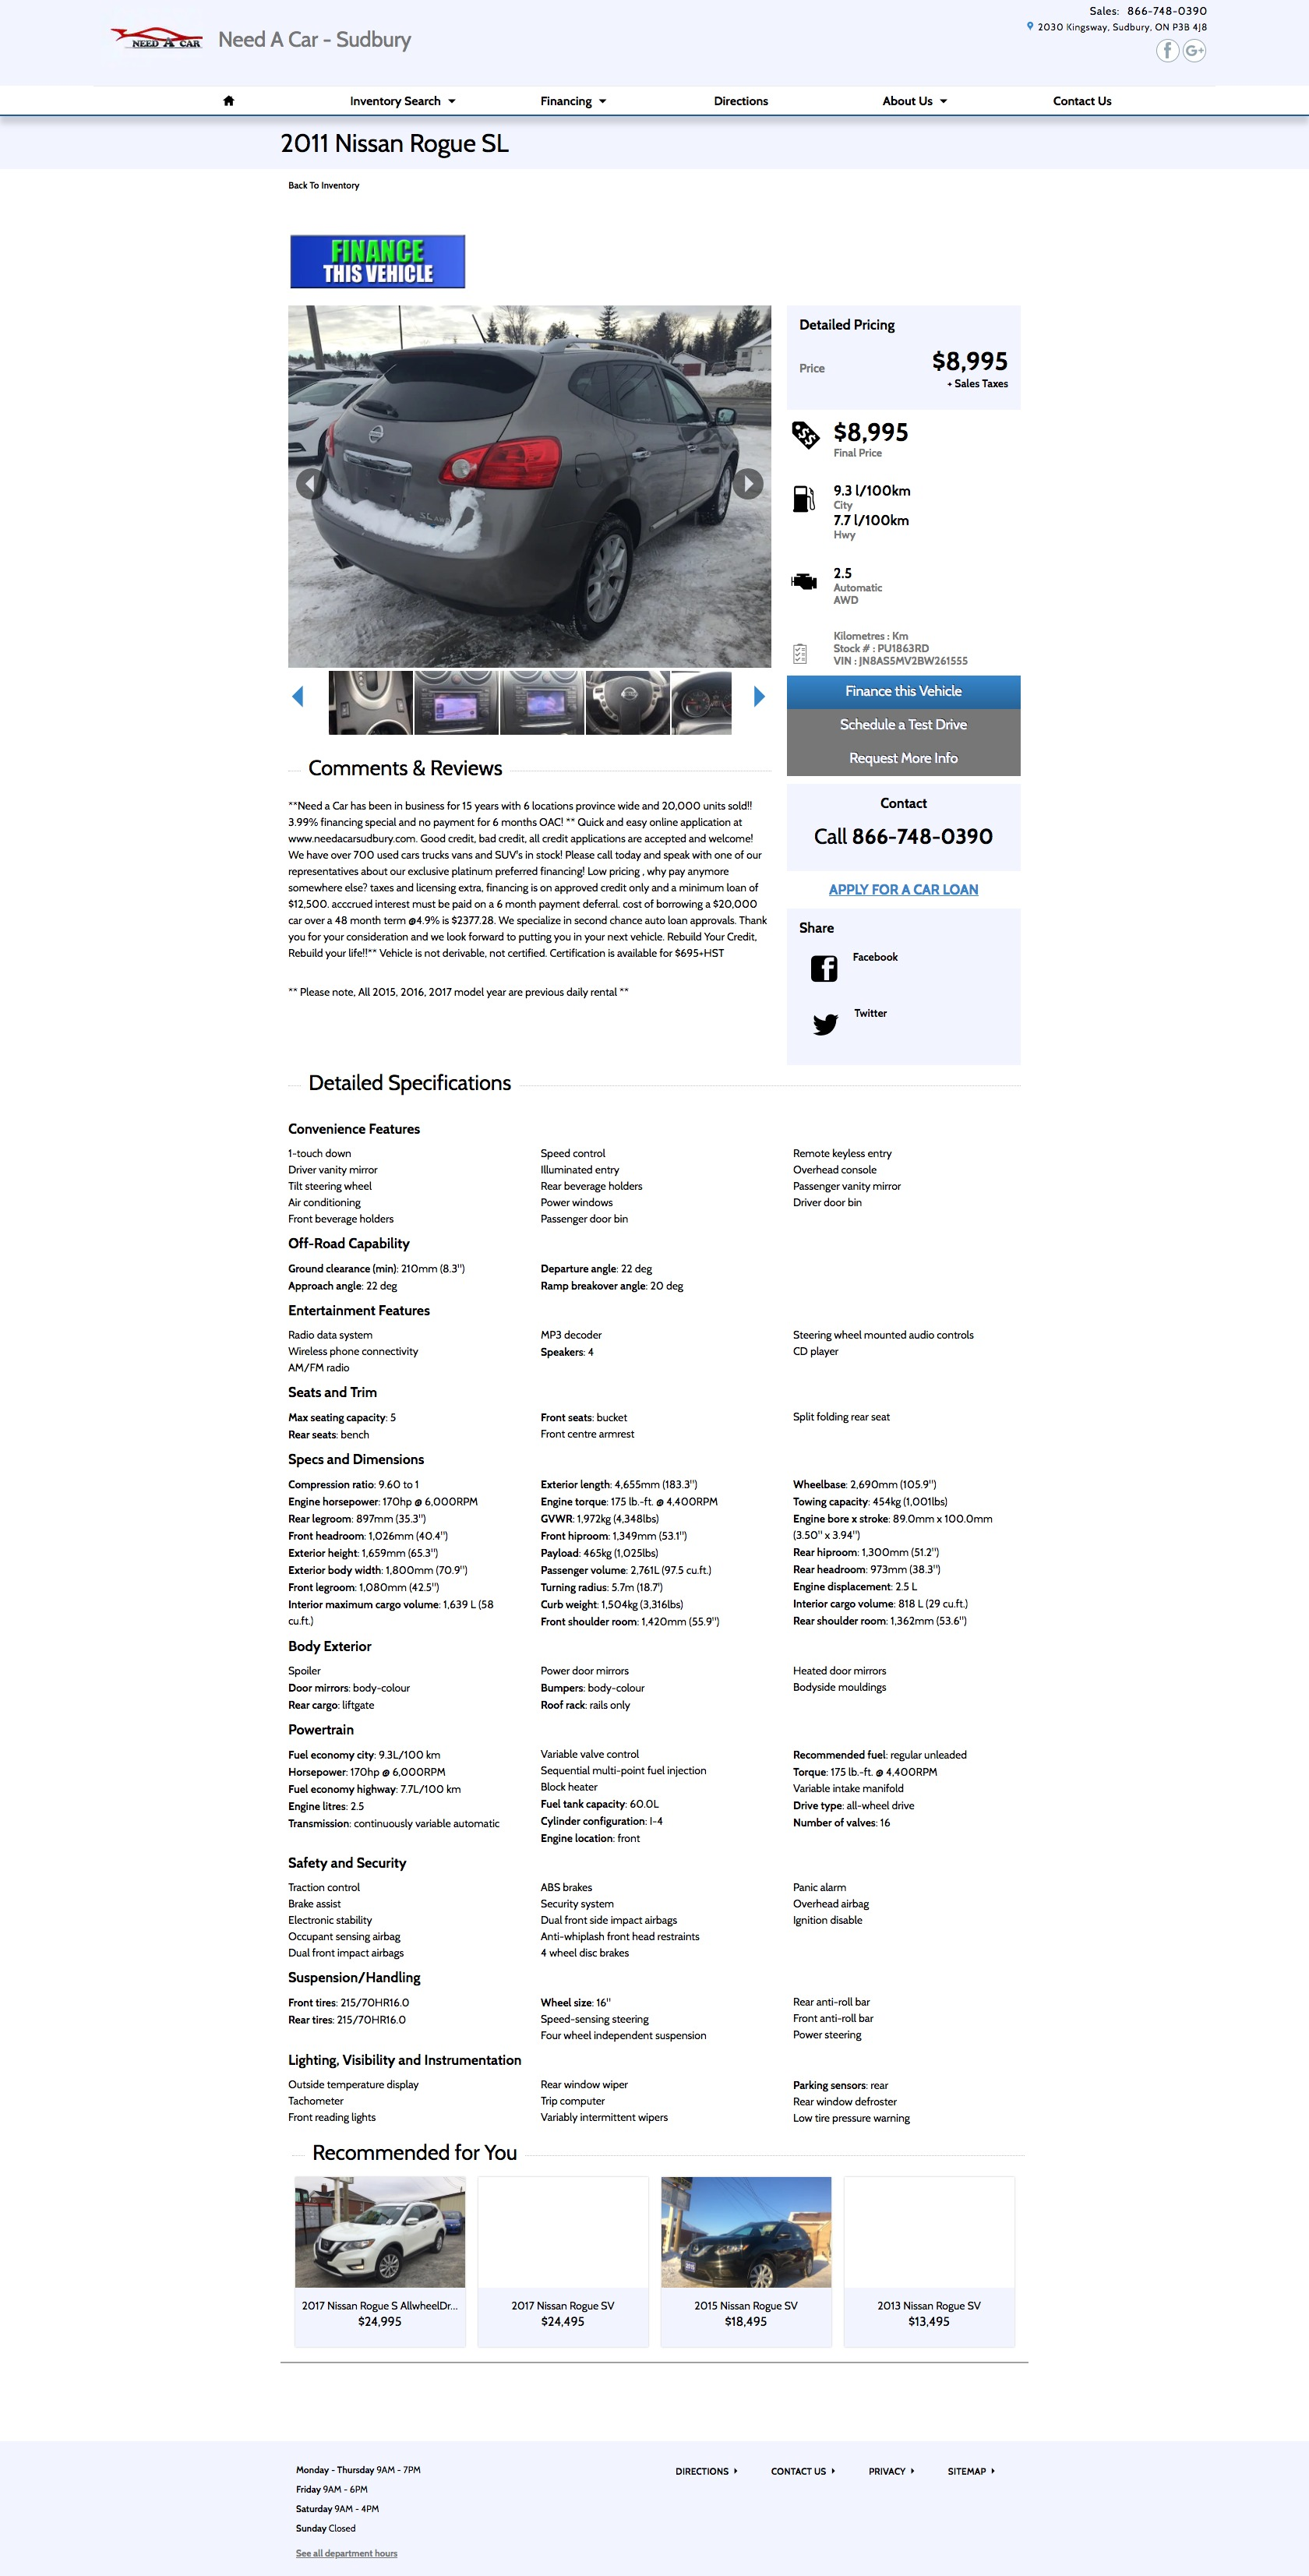car: (753, 684, 766, 708)
